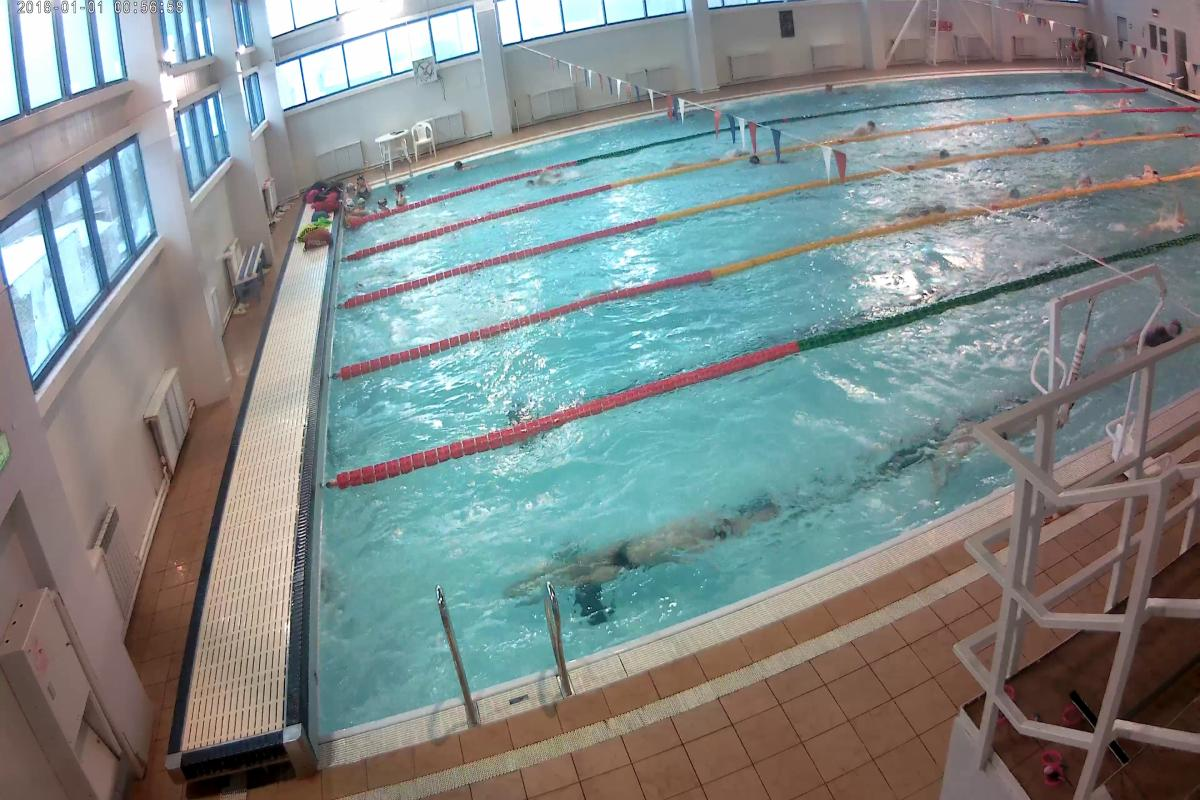swimmer: (585, 508, 735, 582), (1150, 315, 1182, 343), (846, 117, 886, 133), (1008, 133, 1056, 146), (1132, 160, 1164, 178)
